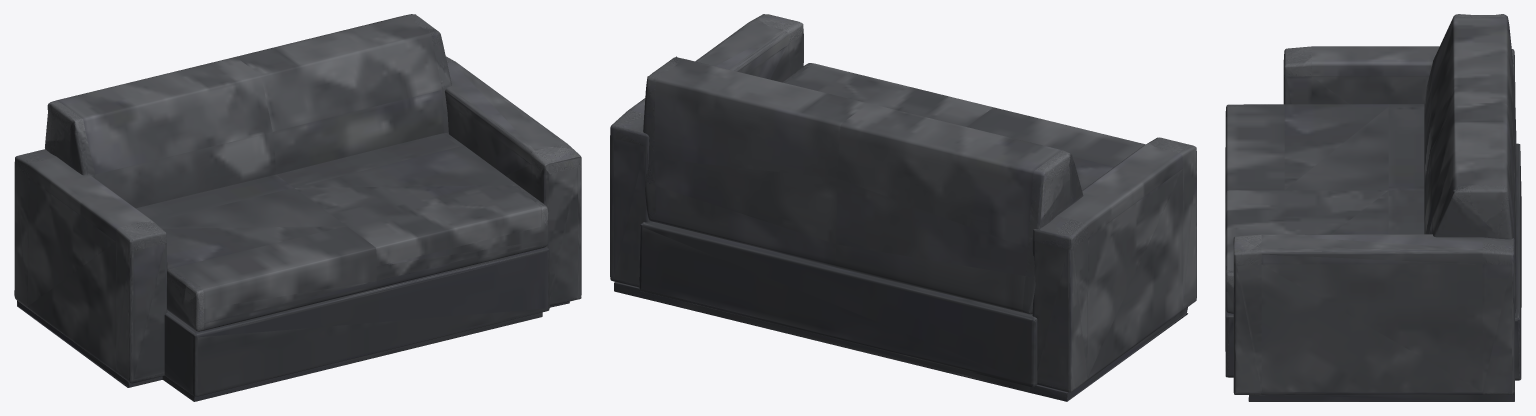
Rendered from sofa.glb.
3 renders of one model, left to right at view 1: azimuth 30°, elevation 25°; view 2: azimuth 150°, elevation 25°; view 3: azimuth 270°, elevation 25°, orthographic. The views are drawn at different scales.
Size of the model in its own units: 0.9497 by 0.4287 by 0.5767.
Materials: 1 (1 with a texture image).
